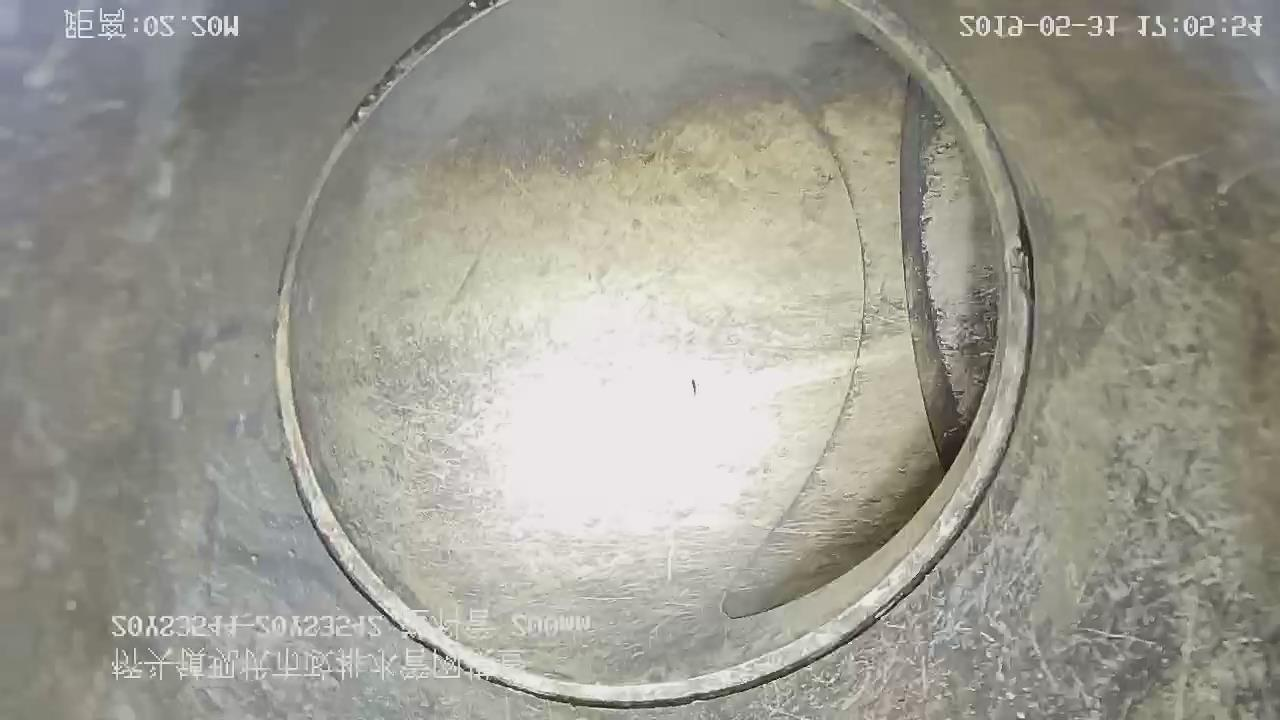CKTJ: (263, 1, 1042, 714)
